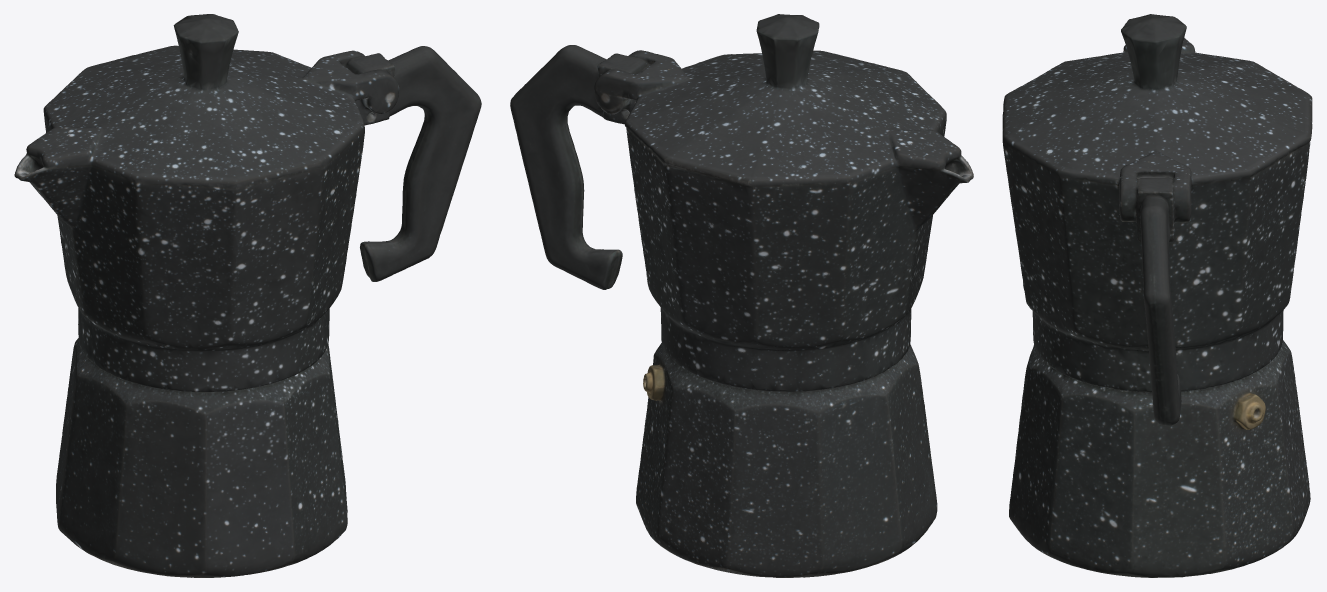
The picture shows the model from 3 angles, left to right: view 1: azimuth 30°, elevation 25°; view 2: azimuth 150°, elevation 25°; view 3: azimuth 270°, elevation 25°; orthographic projection.
Parts seen in each view (by area): view 1: mesh0_object.010; view 2: mesh0_object.010; view 3: mesh0_object.010.
Boxes of the visible parts, box(x1,y1,x2,y2) form: mesh0_object.010: box(14, 14, 481, 577); mesh0_object.010: box(510, 14, 973, 577); mesh0_object.010: box(1002, 14, 1312, 577).
Bounding box in the file's own units: 0.1457 × 0.1509 × 0.0849.
Materials: 1 (1 with a texture image).
